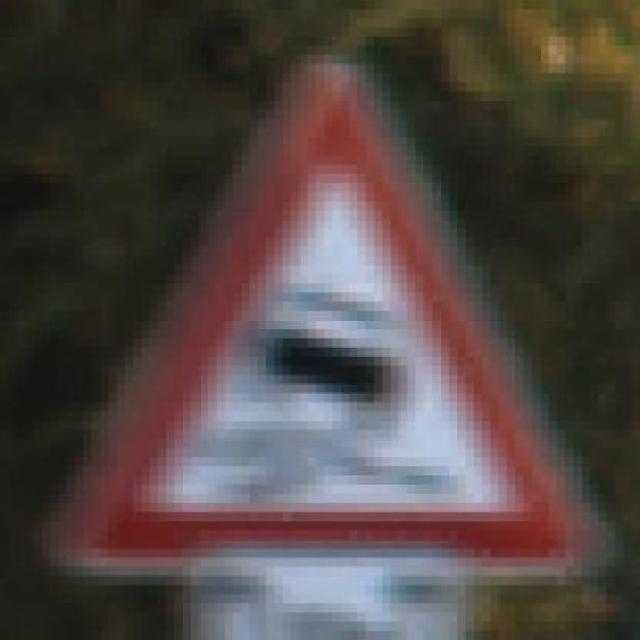Slippery Road Ahead: (49, 46, 616, 586)
